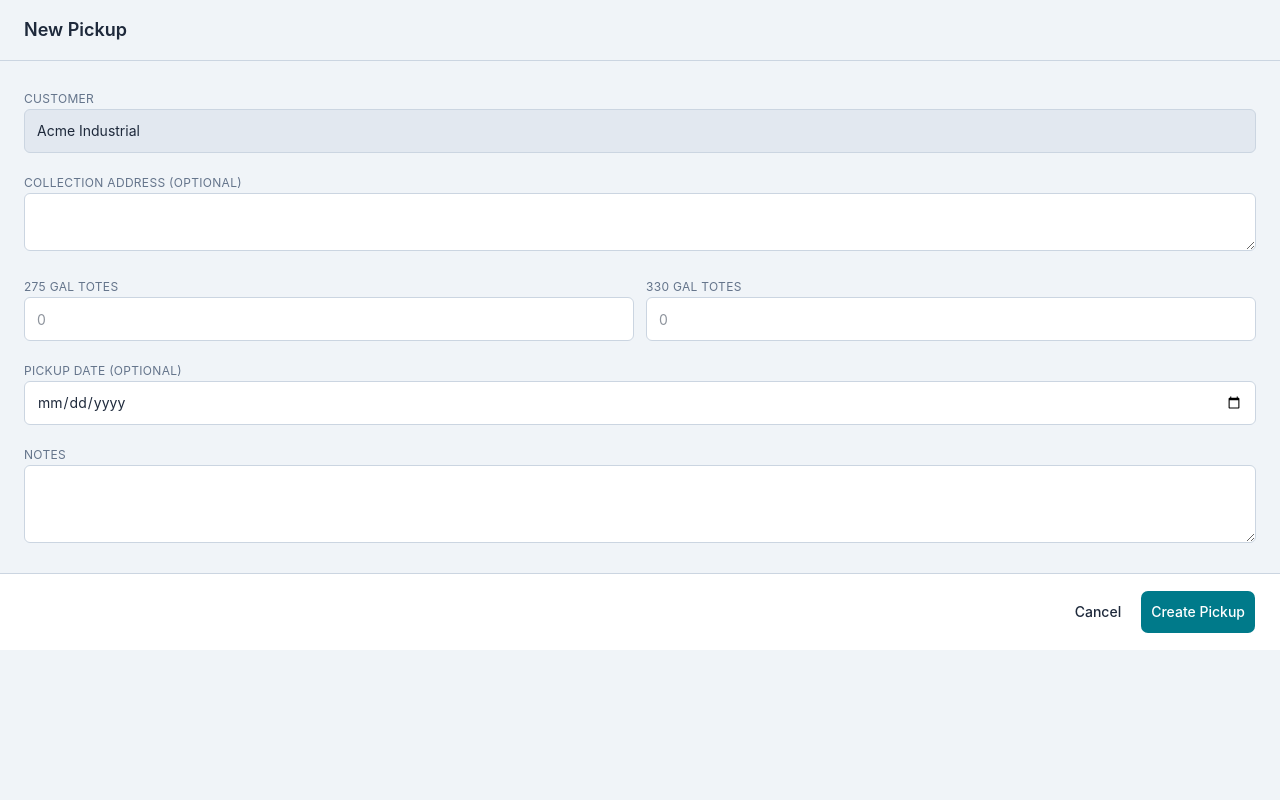
Test: PickupForm › a server error renders in the alert region
Type "3" into the number field labelled "275 gal totes" at [329, 319], box [24,297,634,341]
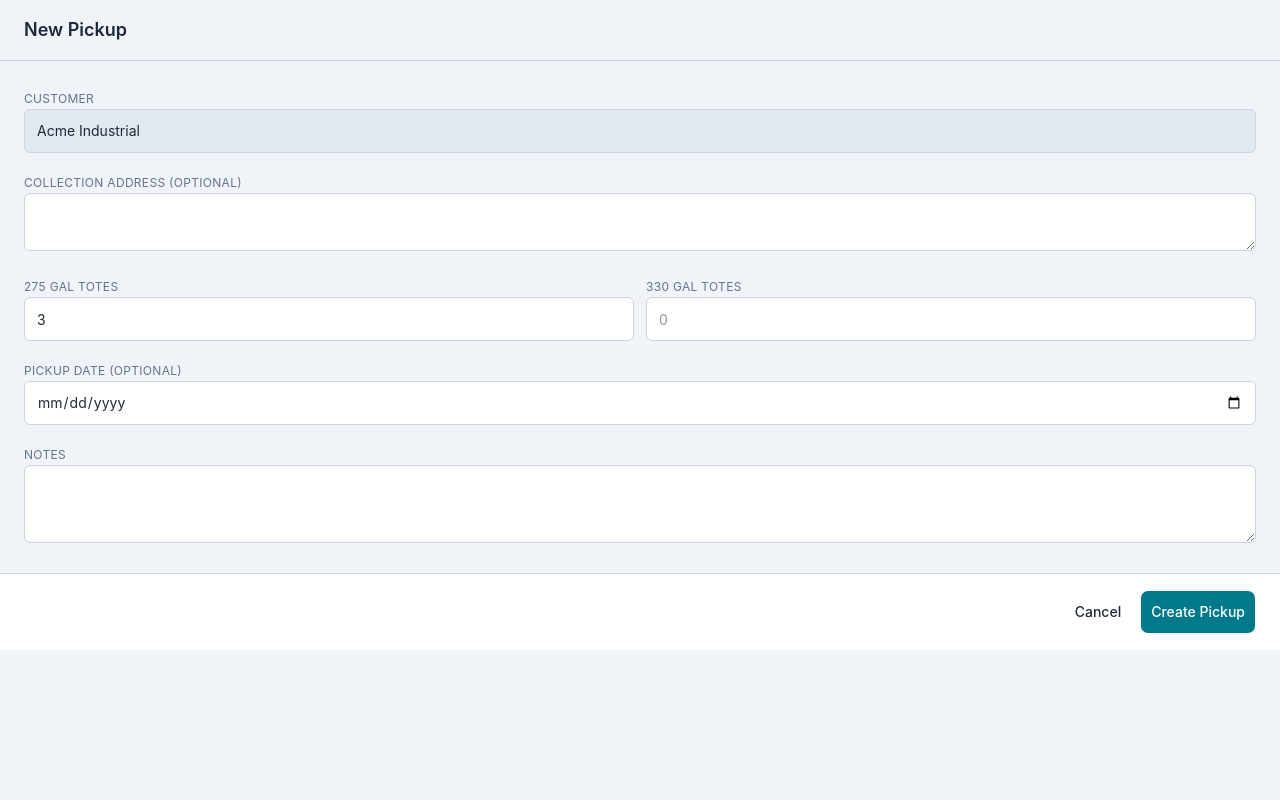
Click the button "Create Pickup" at [1198, 612], box [1140,590,1256,634]
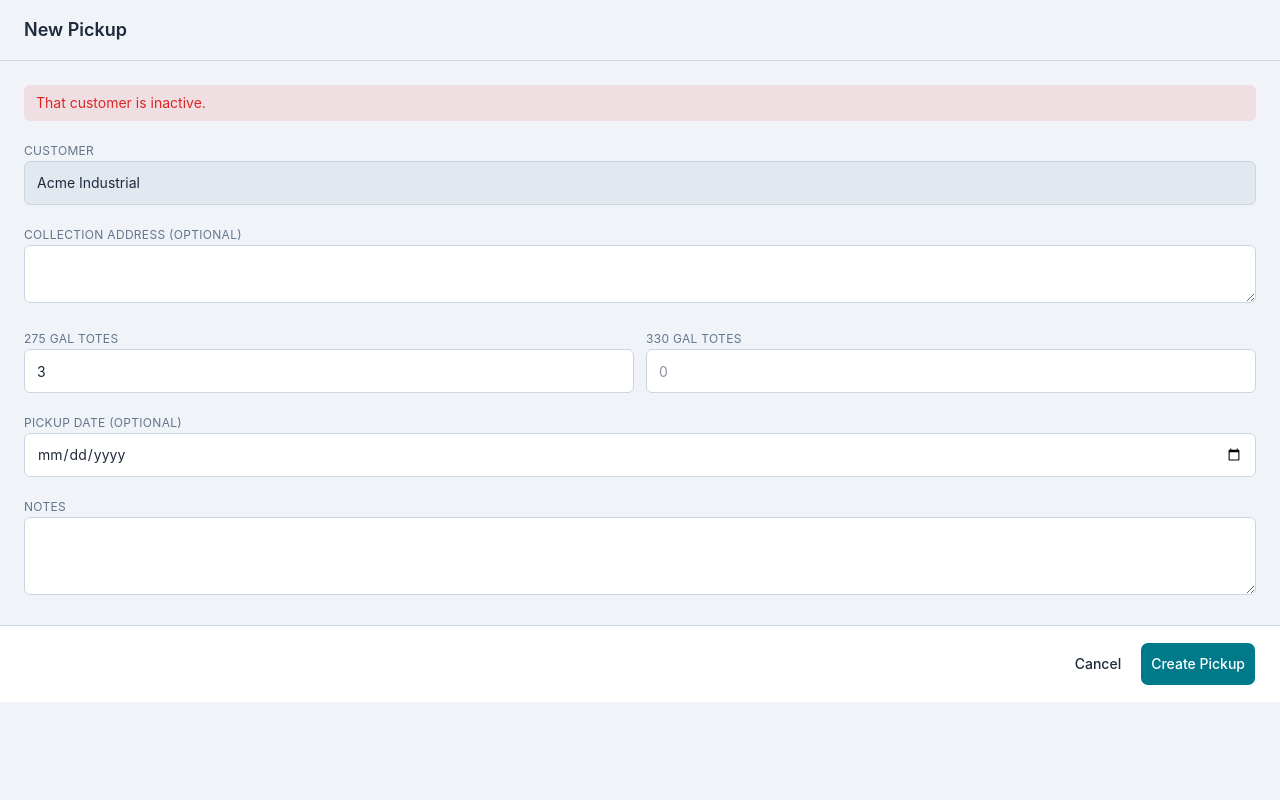
Now the message reads "That customer is inactive.", box [36,94,206,111]
